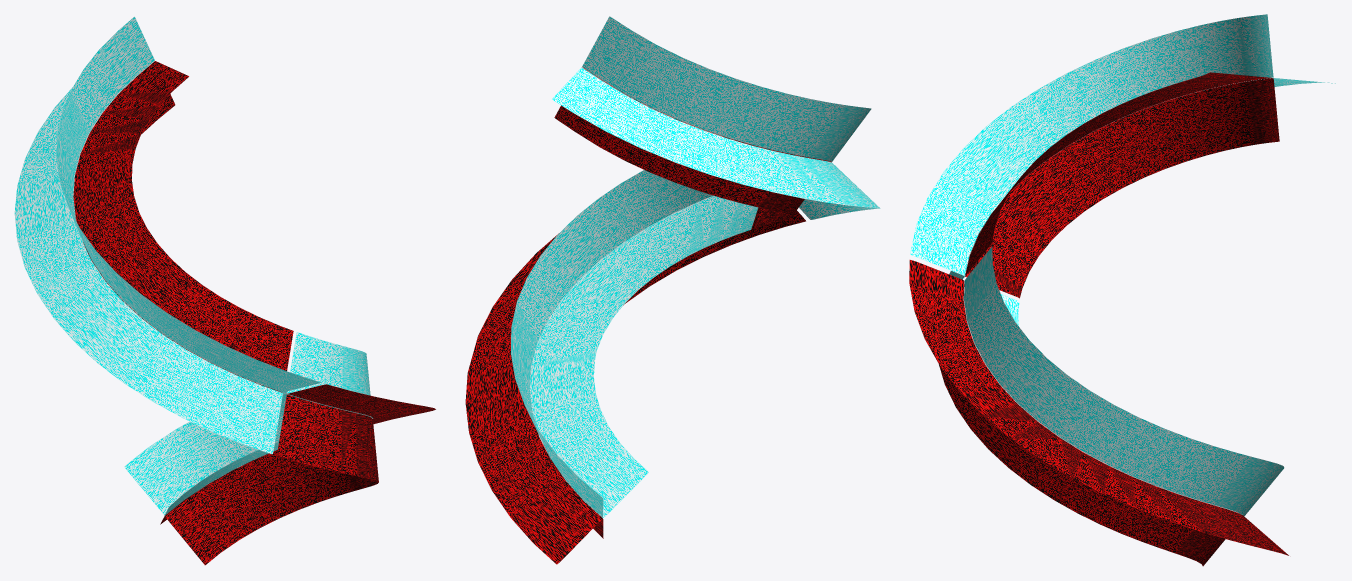
Rendered from SM_Helix_03_GDH.fbx.
3 renders of one model, left to right at view 1: azimuth 30°, elevation 25°; view 2: azimuth 150°, elevation 25°; view 3: azimuth 270°, elevation 25°, orthographic. The views are drawn at different scales.
Visible parts, largest first — view 1: SM_Helix_03_GDH; view 2: SM_Helix_03_GDH; view 3: SM_Helix_03_GDH.
Boxes of the visible parts, x1,y1,x2,y2 form: SM_Helix_03_GDH: (14,16,435,565); SM_Helix_03_GDH: (465,16,880,564); SM_Helix_03_GDH: (909,14,1335,566).
Bounding box in the file's own units: 63.37 × 91.07 × 65.94.
